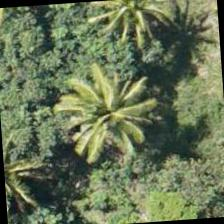Kelapa_Sawit: (58, 63, 154, 158), (81, 0, 175, 53), (1, 124, 53, 218)
